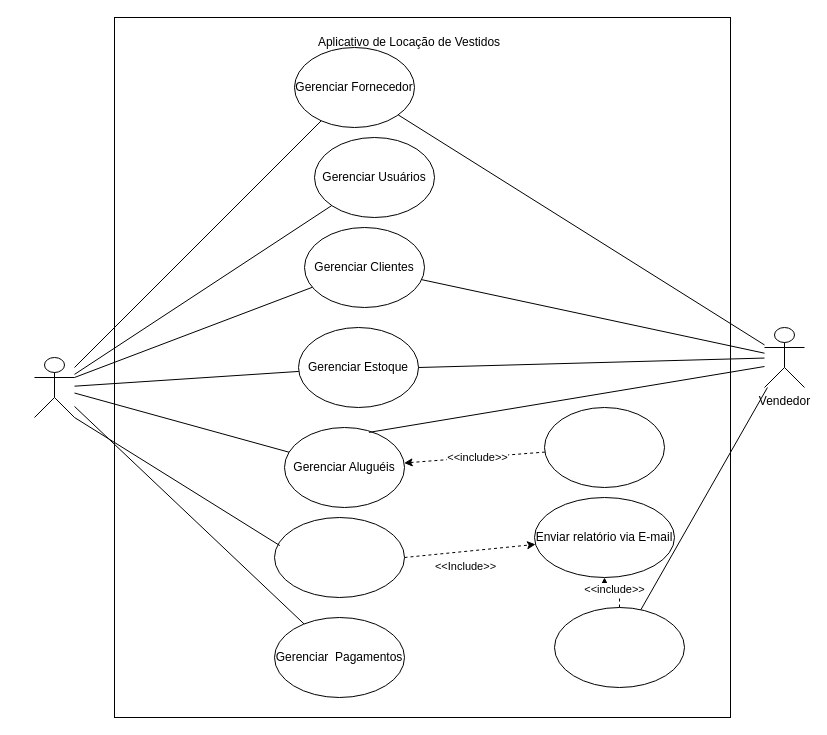
Image size: 827x735. Some labels were removed from this diagram. Each missing label, with the box of its shape:
Administrador: (34, 356, 74, 418)
Agendamento e ajuste do item: (544, 406, 664, 488)
Gerar Relatórios (Financeiros, Custos, Lucratividade): (274, 516, 404, 598)
Gerar Relatórios de Vendas: (554, 606, 684, 688)
